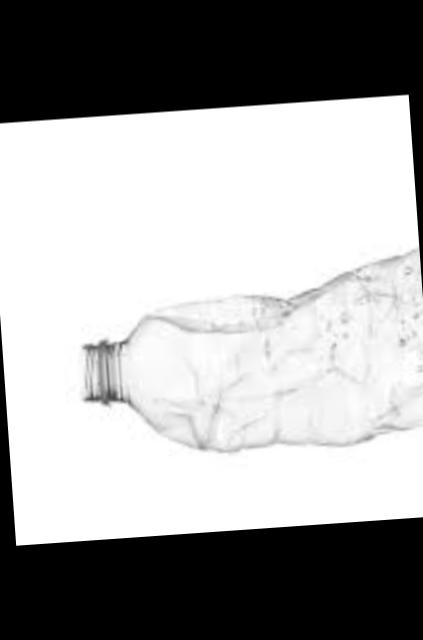plastic: (77, 244, 423, 446)
